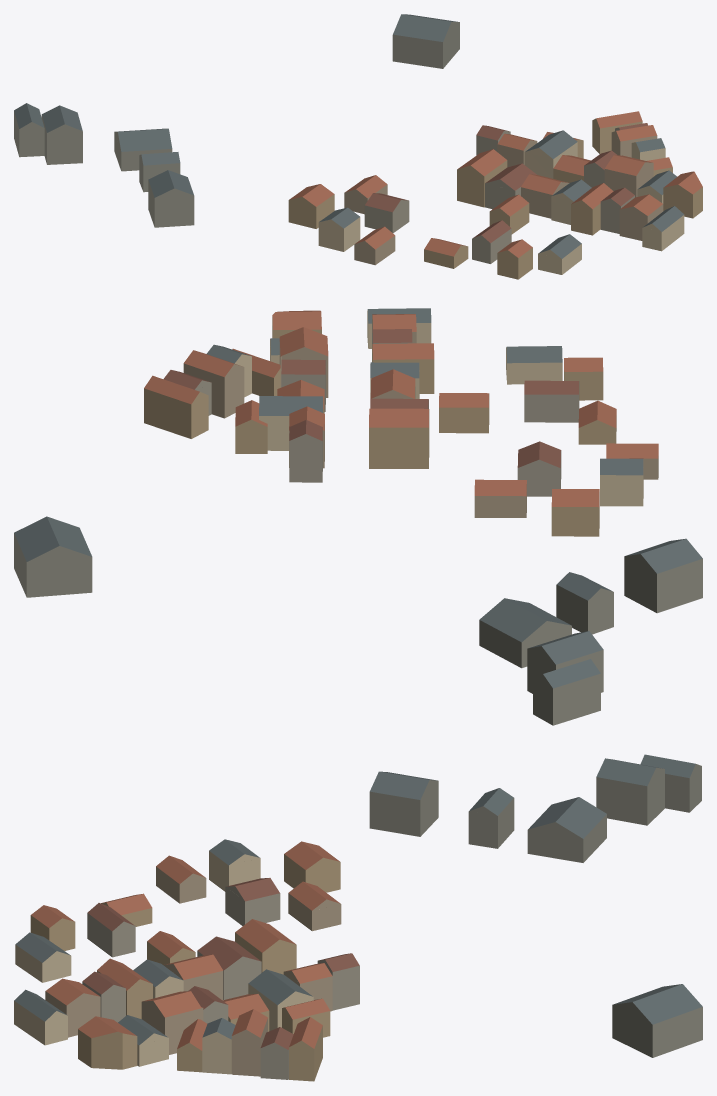
The picture shows the model from 3 angles, top to bottom: view 1: azimuth 30°, elevation 25°; view 2: azimuth 150°, elevation 25°; view 3: azimuth 270°, elevation 25°; orthographic projection. The views are drawn at different scales.
Visible parts, largest first — view 1: C_-2_4; view 2: C_-2_4; view 3: C_-2_4.
Boxes of the visible parts, x1,y1,x2,y2 form: C_-2_4: (14,14,702,279); C_-2_4: (14,308,702,725); C_-2_4: (14,754,702,1081).
Size of the model in its own units: 184 by 14.61 by 185.
